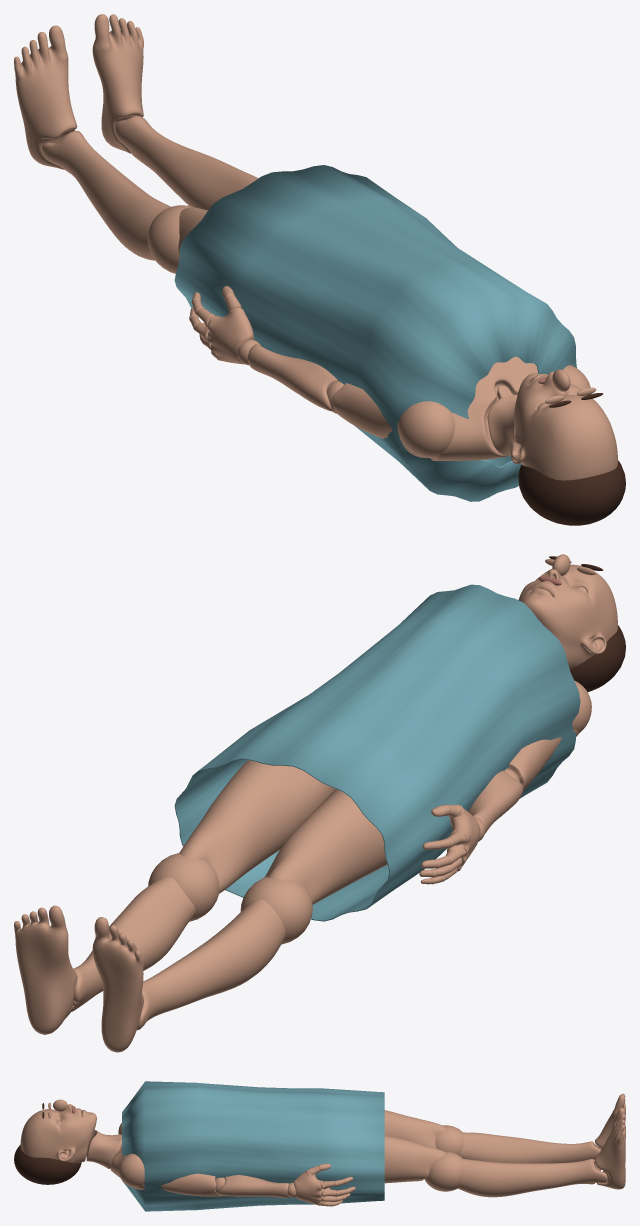
File: MANEQUIM_FEMININO_APLICATIVO.glb
The picture shows the model from 3 angles, top to bottom: view 1: azimuth 30°, elevation 25°; view 2: azimuth 150°, elevation 25°; view 3: azimuth 270°, elevation 25°; orthographic projection. The views are drawn at different scales.
Visible parts, largest first — view 1: Paciente_F_Camisola, Paciente_F_shins, Paciente_F_feet, Paciente_F_head, Paciente_F_Cabelo, Paciente_F_torso, Paciente_F_forearms, Paciente_F_Ombro.001, Paciente_F_hands, Paciente_F_upperarms, Paciente_F_Joelho.001, Paciente_F_neck; view 2: Paciente_F_Camisola, Paciente_F_thighs, Paciente_F_shins, Paciente_F_feet, Paciente_F_head, Paciente_F_Joelho.001, Paciente_F_Joelho, Paciente_F_forearms, Paciente_F_Cabelo, Paciente_F_upperarms, Paciente_F_hands; view 3: Paciente_F_Camisola, Paciente_F_shins, Paciente_F_thighs, Paciente_F_head, Paciente_F_feet, Paciente_F_Cabelo, Paciente_F_forearms, Paciente_F_Joelho, Paciente_F_upperarms, Paciente_F_neck, Paciente_F_hands, Paciente_F_Ombro (+2 smaller).
Part boxes in pixels (x1,y1,x2,y2): Paciente_F_Camisola: (174, 165, 576, 501); Paciente_F_shins: (42, 116, 258, 260); Paciente_F_feet: (14, 14, 143, 169); Paciente_F_head: (510, 371, 617, 480); Paciente_F_Cabelo: (518, 460, 625, 525); Paciente_F_torso: (430, 356, 538, 460); Paciente_F_forearms: (248, 344, 343, 413); Paciente_F_Ombro.001: (397, 401, 454, 457); Paciente_F_hands: (207, 308, 260, 365); Paciente_F_upperarms: (332, 383, 429, 457); Paciente_F_Joelho.001: (148, 205, 194, 273); Paciente_F_neck: (487, 385, 517, 455); Paciente_F_Camisola: (174, 584, 580, 921); Paciente_F_thighs: (179, 760, 387, 904); Paciente_F_shins: (71, 877, 285, 1030); Paciente_F_feet: (14, 905, 143, 1052); Paciente_F_head: (518, 564, 617, 668); Paciente_F_Joelho.001: (240, 876, 312, 944); Paciente_F_Joelho: (148, 853, 219, 921); Paciente_F_forearms: (468, 768, 523, 833); Paciente_F_Cabelo: (569, 625, 625, 691); Paciente_F_upperarms: (508, 729, 579, 789); Paciente_F_hands: (450, 805, 485, 871); Paciente_F_Camisola: (122, 1081, 384, 1211); Paciente_F_shins: (458, 1132, 607, 1197); Paciente_F_thighs: (384, 1110, 445, 1183); Paciente_F_head: (20, 1104, 96, 1163); Paciente_F_feet: (595, 1093, 625, 1189); Paciente_F_Cabelo: (14, 1144, 81, 1184); Paciente_F_forearms: (215, 1175, 289, 1198); Paciente_F_Joelho: (424, 1151, 463, 1191); Paciente_F_upperarms: (134, 1173, 226, 1196); Paciente_F_neck: (86, 1130, 121, 1168); Paciente_F_hands: (287, 1170, 322, 1205); Paciente_F_Ombro: (118, 1153, 144, 1187).
Bounding box in the file's own units: 0.4901 × 0.3657 × 1.71.
